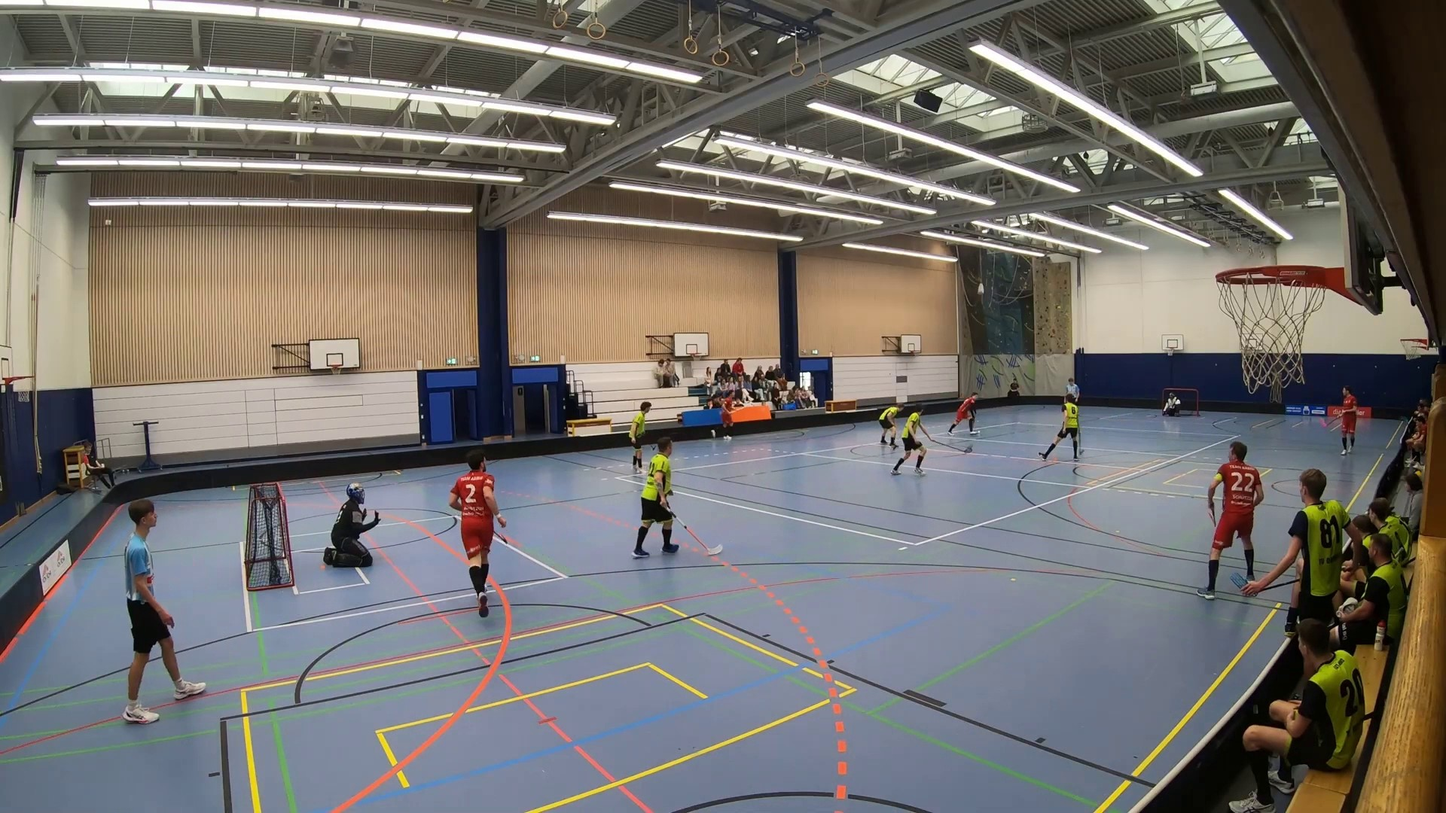Schiri: (110, 483, 204, 734), (1063, 375, 1079, 401)
ball: (977, 425, 987, 439)
goalkeeper: (317, 454, 390, 586), (1163, 387, 1182, 422)
player: (433, 437, 512, 632), (627, 438, 718, 566), (1192, 438, 1263, 598), (894, 404, 934, 477), (1044, 390, 1080, 462), (1328, 381, 1364, 450), (614, 388, 649, 456), (947, 384, 987, 441), (872, 390, 901, 449), (718, 389, 745, 446)
